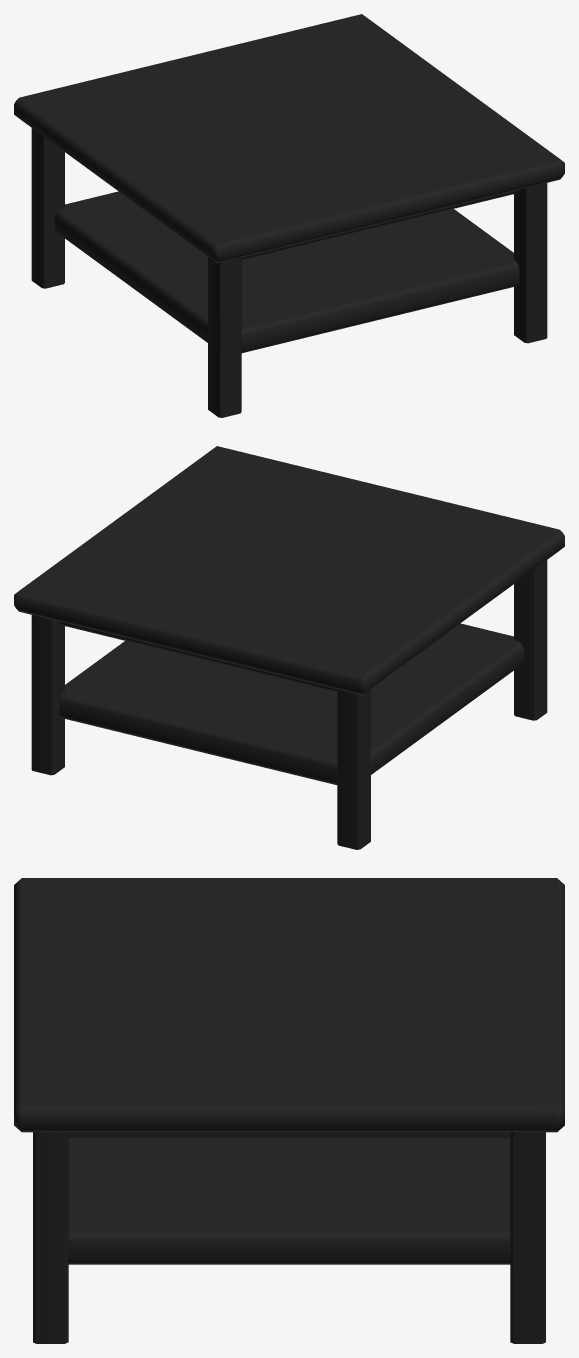
Rendered from coffee_table_006.fbx.
3 views of the same model, one above another, from view 1: azimuth 30°, elevation 25°; view 2: azimuth 150°, elevation 25°; view 3: azimuth 270°, elevation 25° (orthographic). The views are drawn at different scales.
Parts seen in each view (by area): view 1: coffee_table_006; view 2: coffee_table_006; view 3: coffee_table_006.
Part boxes in pixels (x1,y1,x2,y2): coffee_table_006: (14, 14, 564, 417); coffee_table_006: (14, 446, 564, 849); coffee_table_006: (14, 878, 564, 1343).
Size of the model in its own units: 124 by 124 by 60.44.
